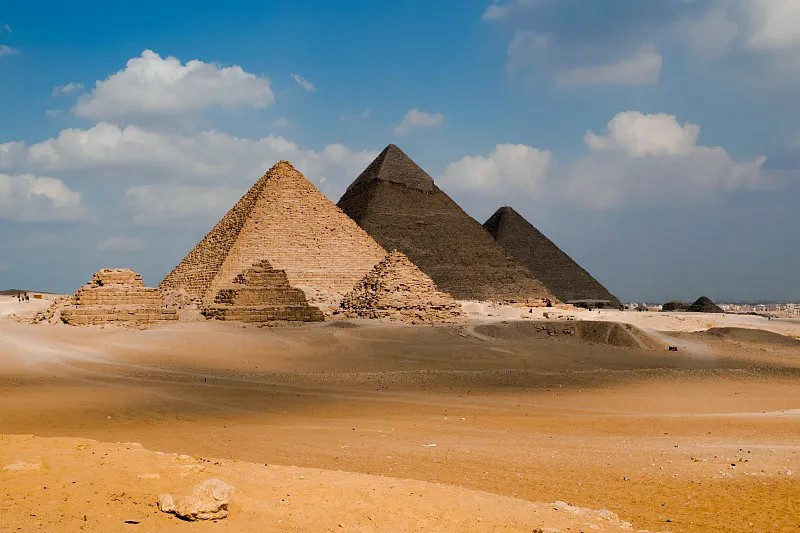Pyramid: (338, 144, 561, 304), (156, 160, 388, 310), (484, 206, 622, 307), (340, 247, 465, 324), (202, 260, 327, 324), (59, 269, 179, 325)
